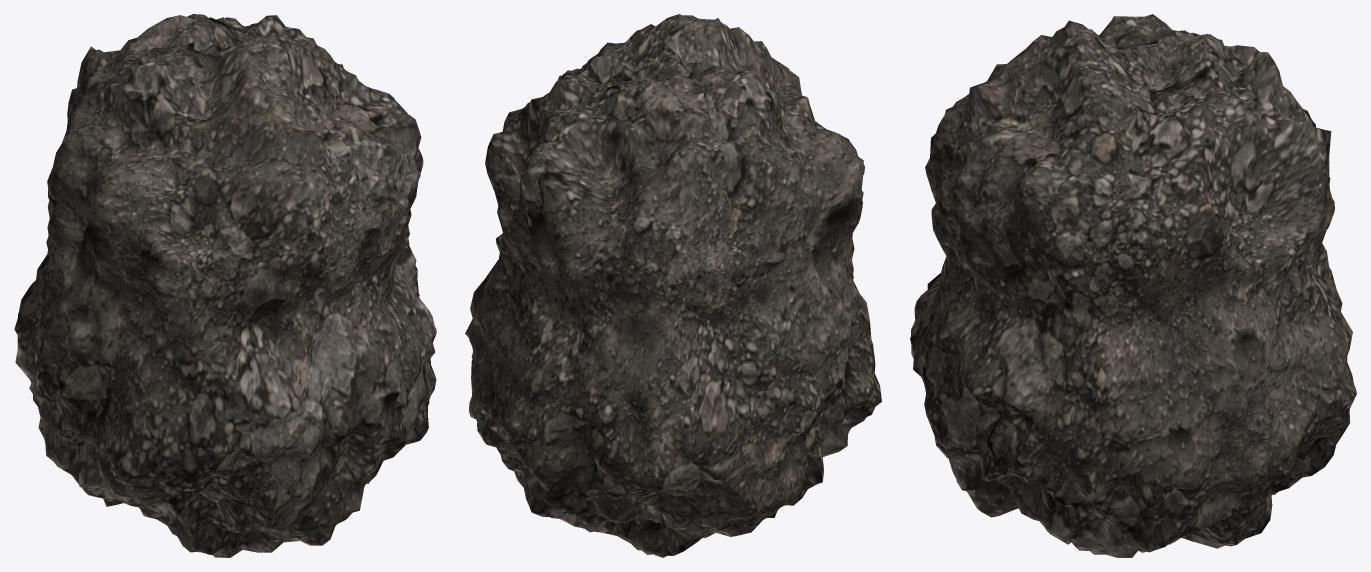
Rendered from asteroid-3.glb.
3 views of the same model, side by side, from view 1: azimuth 30°, elevation 25°; view 2: azimuth 150°, elevation 25°; view 3: azimuth 270°, elevation 25° (orthographic). The views are drawn at different scales.
Visible parts, largest first — view 1: asteroid-3; view 2: asteroid-3; view 3: asteroid-3.
Boxes of the visible parts, <box> form: asteroid-3: <box>14,14,436,557</box>; asteroid-3: <box>465,14,881,557</box>; asteroid-3: <box>910,14,1356,557</box>.
Size of the model in its own units: 1.38 by 1.93 by 1.51.
Materials: 1 (1 with a texture image).
